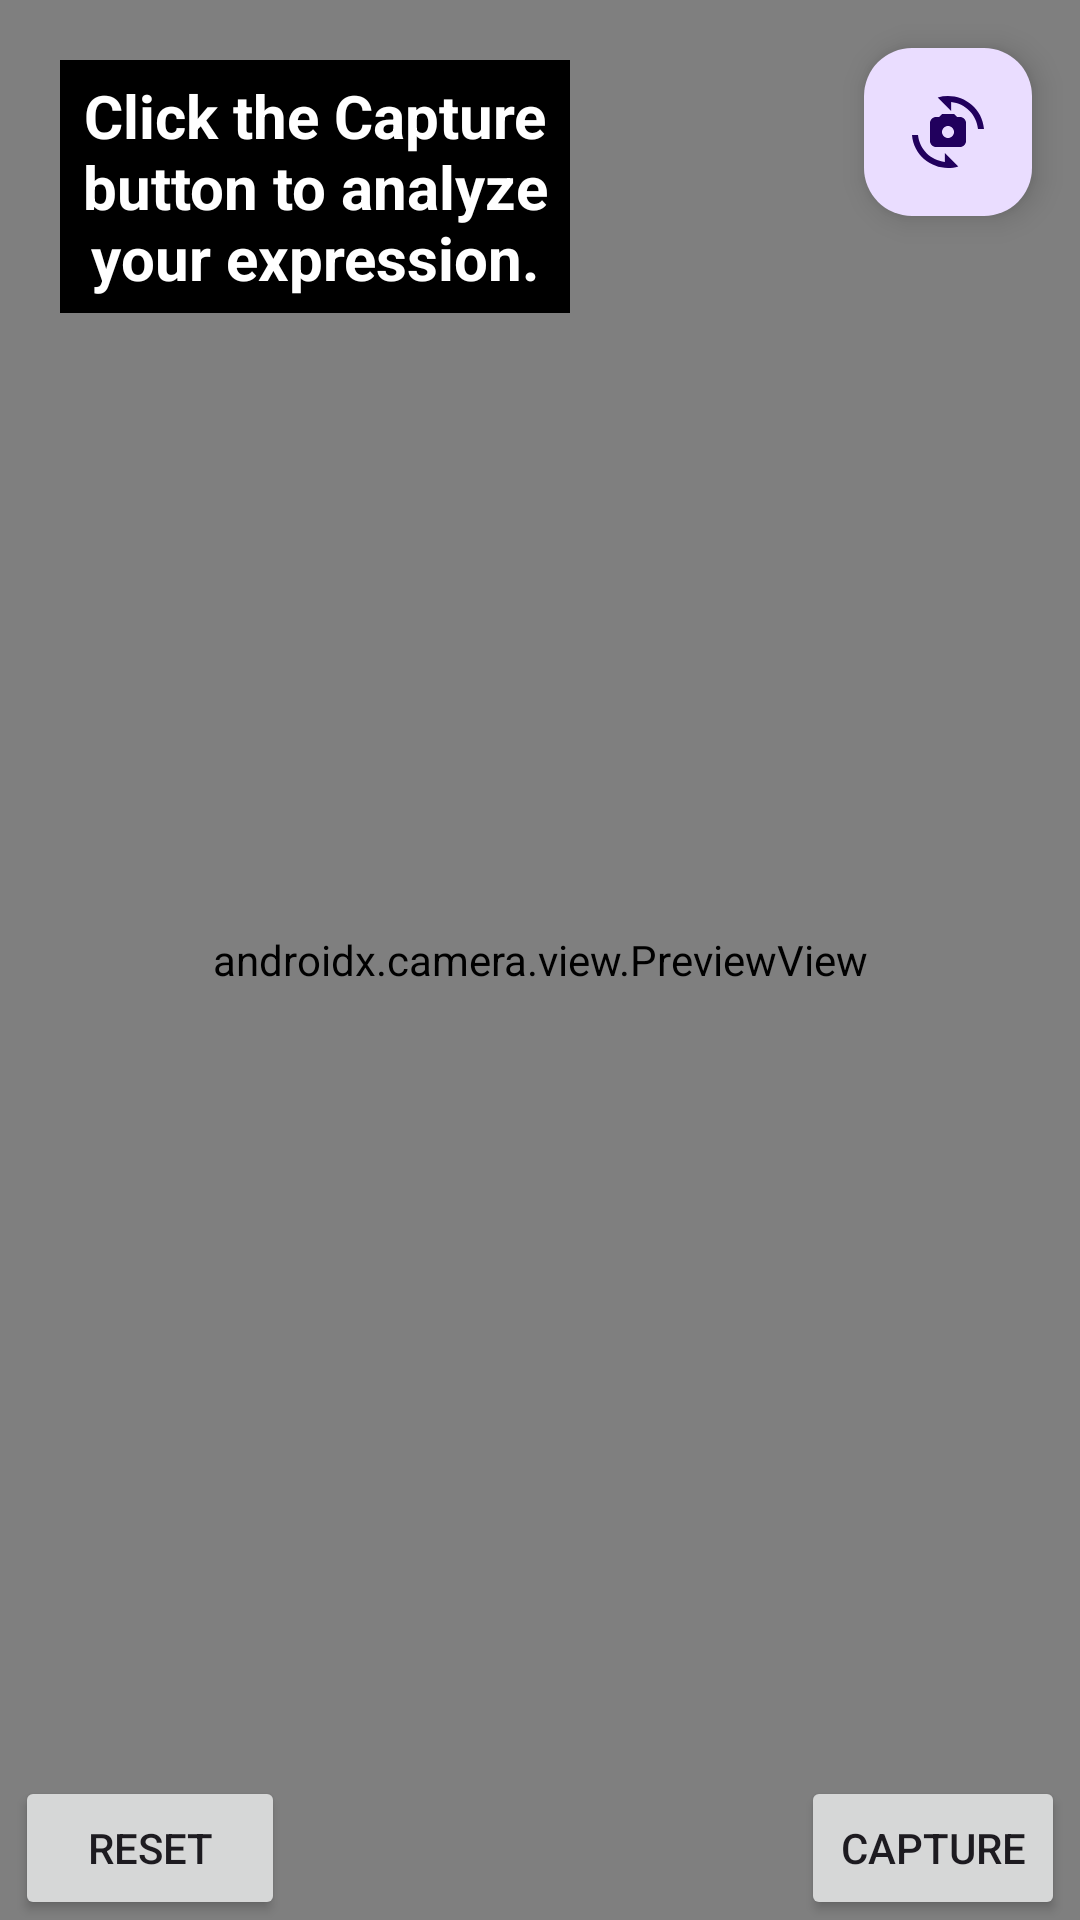

Locate icon controls on the screen. Image size 1080×1920, boxes as (x1, y1, x2, y2).
cameraswitch: (864, 48, 1032, 216)
